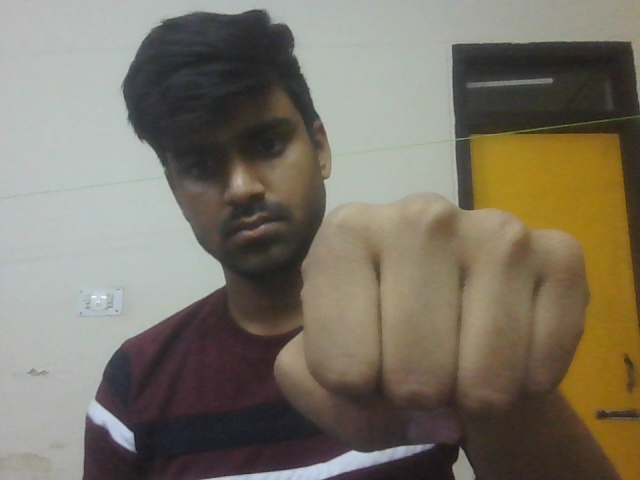yes: (257, 184, 606, 465)
